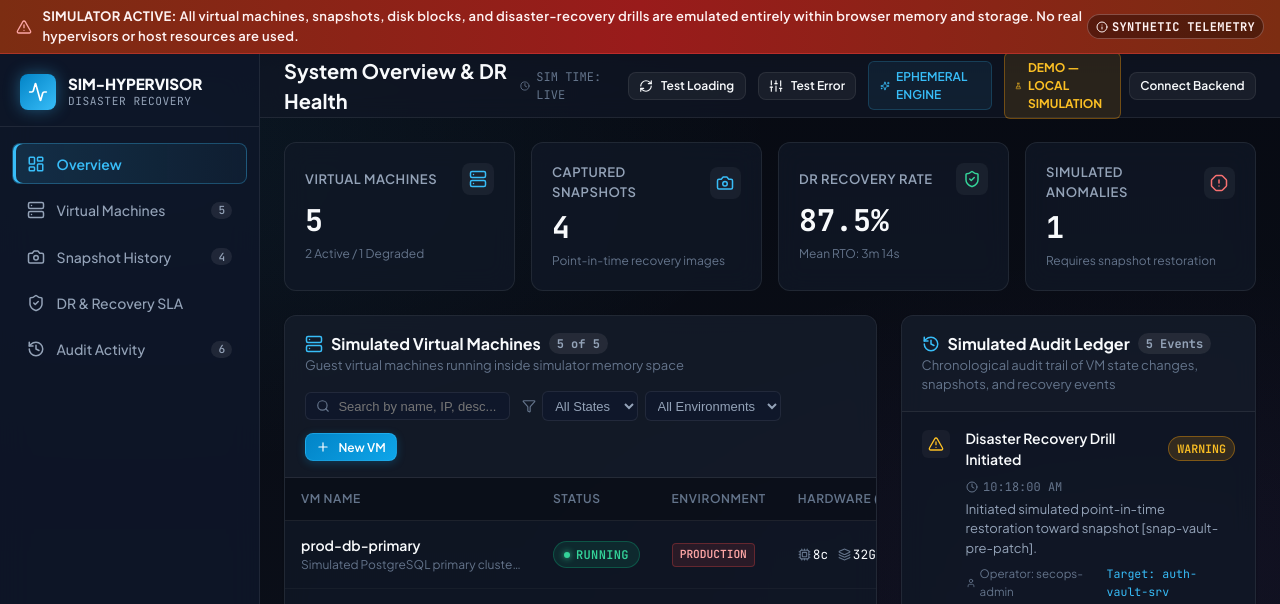
Test: App Dashboard Shell & Navigation › toggles simulated error banner
Click the button with test id "toggle-error-btn": x=807, y=86 [758,72,856,100]
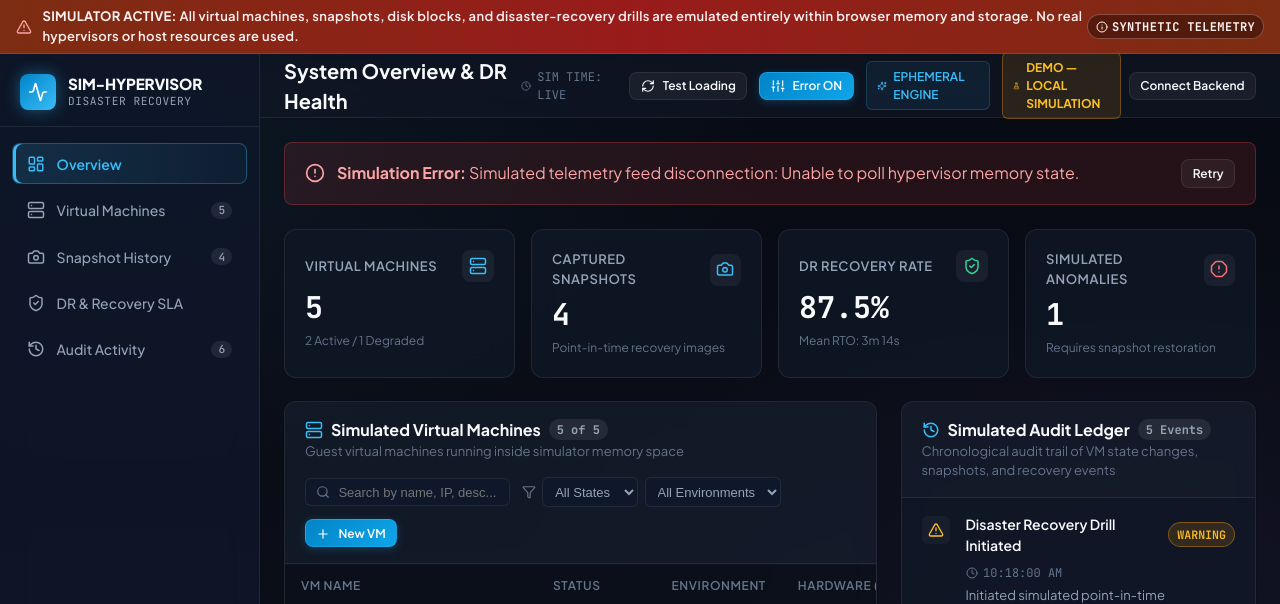
Expected: the message with test id "error-state" is shown, [284,142,1256,205]
Expected: the text "Simulated telemetry feed disconnection" is shown, [469,162,1079,184]
Note: Dismiss error via Retry button
Click the button "Retry": x=1208, y=174 [1181,159,1235,188]
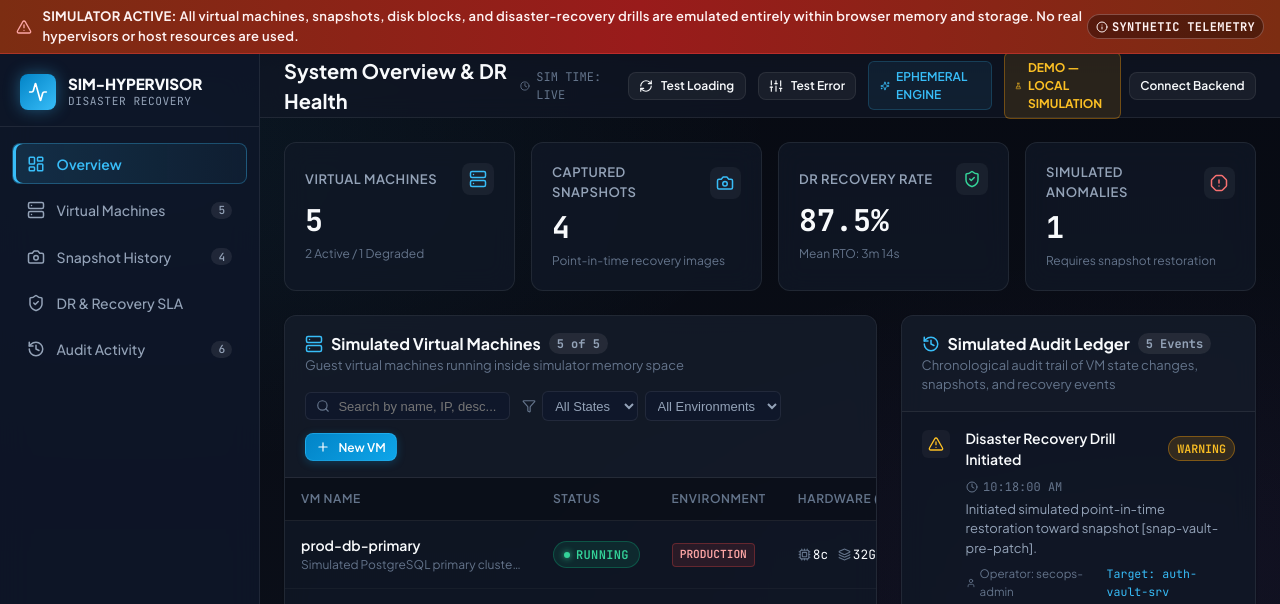
Expected: the message with test id "error-state" is gone
